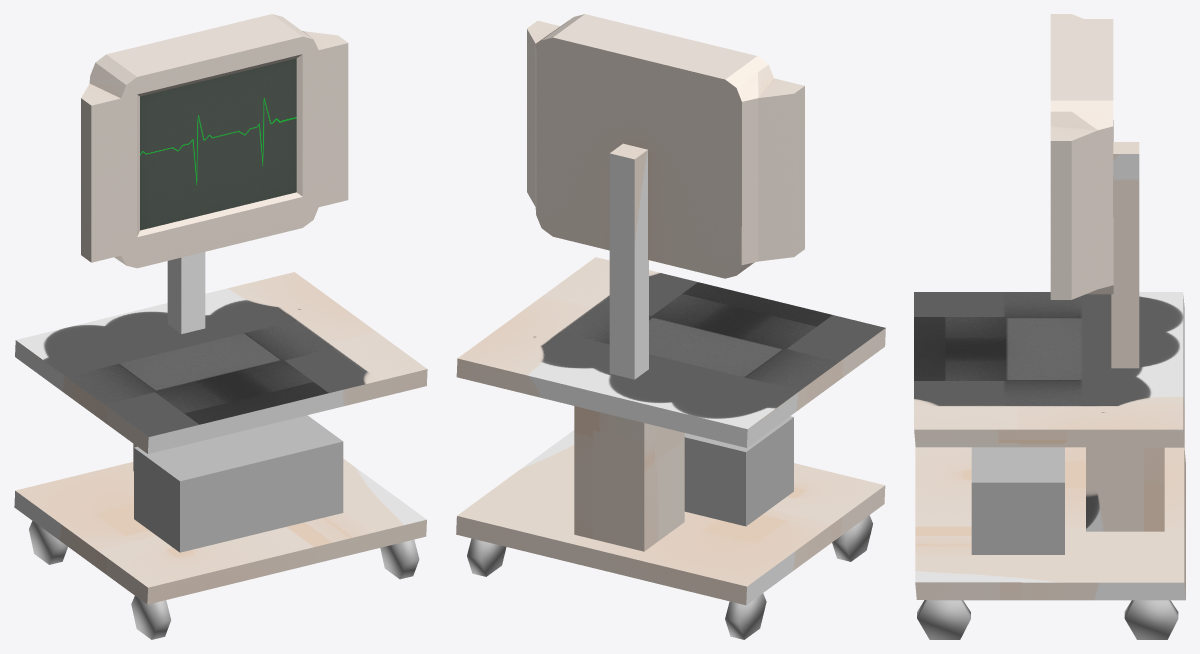
File: mesh_monitor.obj
3 views of the same model, side by side, from view 1: azimuth 30°, elevation 25°; view 2: azimuth 150°, elevation 25°; view 3: azimuth 270°, elevation 25° (orthographic). The views are drawn at different scales.
Parts seen in each view (by area): view 1: Cube.002, Cube, Cube.004_Cube.007, Cylinder.001; view 2: Cube.002, Cube, Cube.004_Cube.007, Cylinder.001; view 3: Cube.002, Cube, Cube.004_Cube.007, Cylinder.001.
Boxes of the visible parts, box(x1,y1,x2,y2) form: Cube.002: box(14, 252, 427, 604); Cube: box(81, 14, 348, 268); Cube.004_Cube.007: box(134, 415, 343, 552); Cylinder.001: box(29, 521, 419, 639); Cube.002: box(456, 143, 885, 605); Cube: box(527, 14, 804, 278); Cube.004_Cube.007: box(684, 416, 793, 526); Cylinder.001: box(467, 515, 872, 639); Cube.002: box(914, 142, 1185, 600); Cube: box(1050, 14, 1113, 299); Cube.004_Cube.007: box(971, 447, 1064, 554); Cylinder.001: box(917, 600, 1178, 639).
Bounding box in the file's own units: 2.73 × 4.75 × 2.27.
